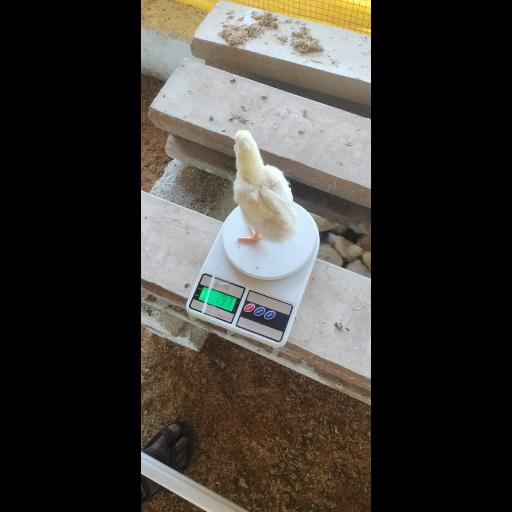chick: (232, 131, 294, 242)
